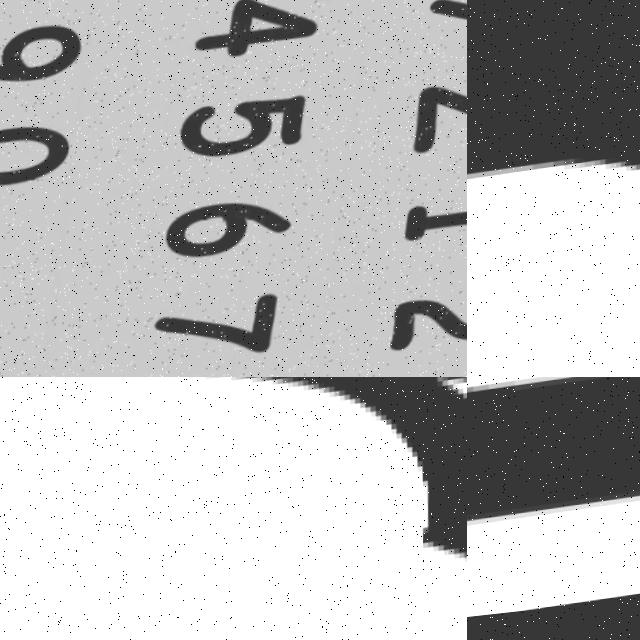0: (0, 88, 108, 224)
1: (392, 175, 467, 276)
2: (359, 265, 467, 377)
4: (173, 0, 340, 96)
5: (161, 65, 344, 199)
6: (149, 166, 330, 298)
7: (137, 273, 310, 377)
9: (0, 0, 132, 124)
R: (22, 377, 467, 640), (467, 0, 640, 377)
U: (467, 377, 640, 560)
